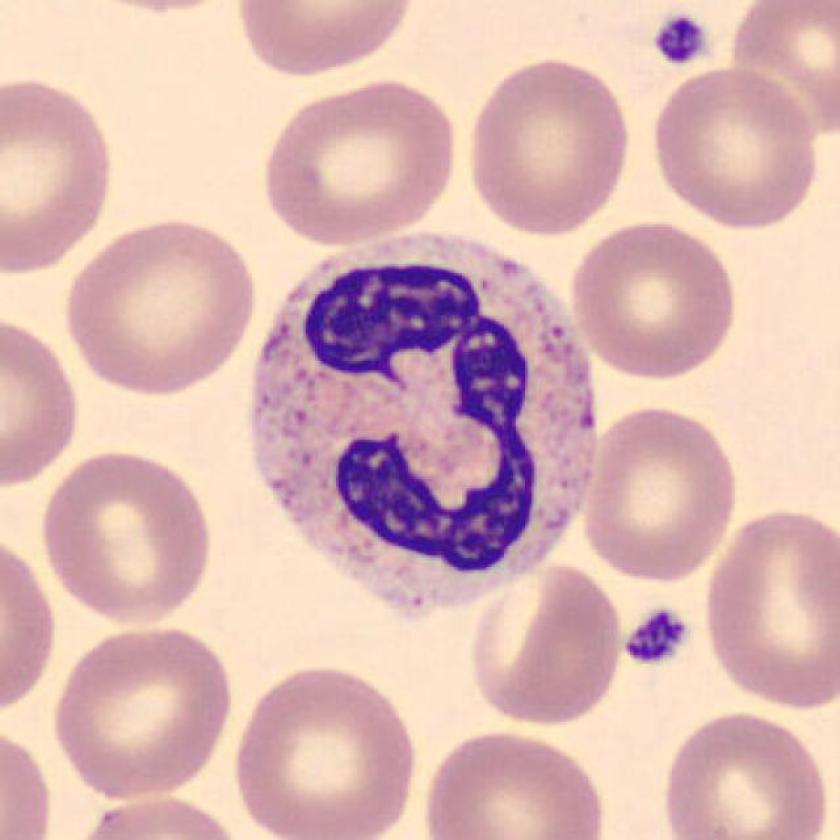neutrophil: (252, 235, 596, 615)
